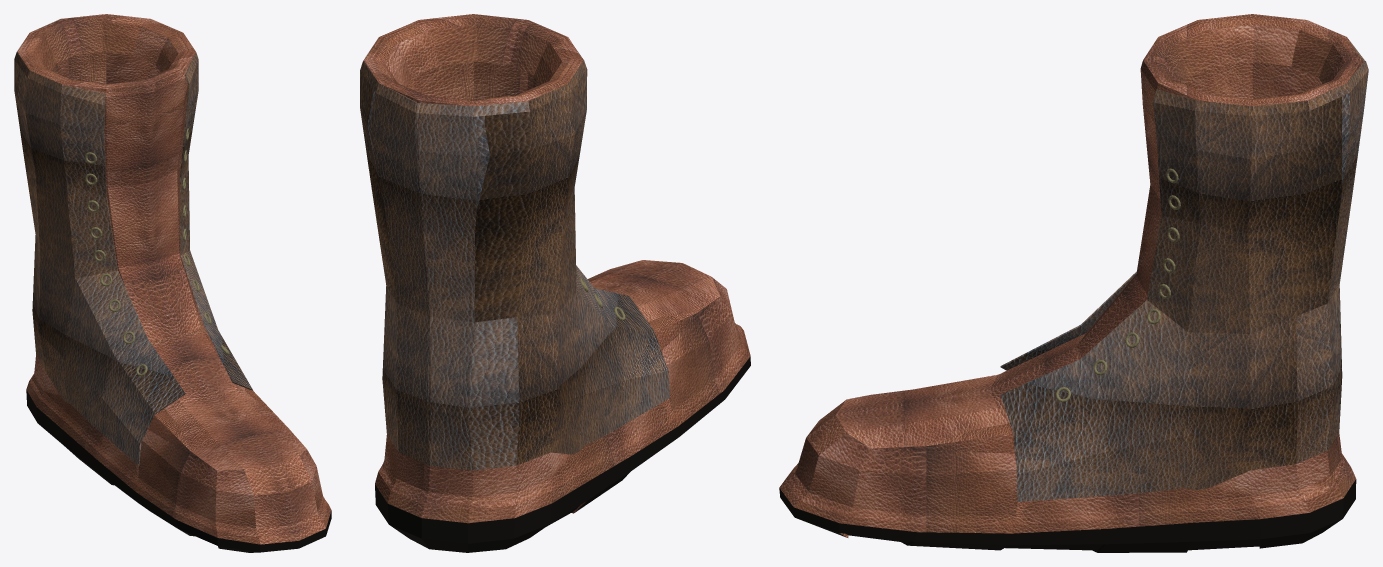
File: Bota.fbx
3 renders of one model, left to right at view 1: azimuth 30°, elevation 25°; view 2: azimuth 150°, elevation 25°; view 3: azimuth 270°, elevation 25°, orthographic. The views are drawn at different scales.
Parts seen in each view (by area): view 1: Cylinder, Cylinder.001; view 2: Cylinder.001, Cylinder; view 3: Cylinder.001, Cylinder.
Boxes of the visible parts, bbox=[...] form: Cylinder: bbox=[17, 14, 331, 552]; Cylinder.001: bbox=[14, 15, 253, 465]; Cylinder.001: bbox=[360, 51, 669, 470]; Cylinder: bbox=[363, 14, 750, 552]; Cylinder.001: bbox=[1000, 39, 1368, 501]; Cylinder: bbox=[779, 14, 1362, 552].
Bounding box in the file's own units: 366 × 164 × 417.
4 materials, 2 textured.
